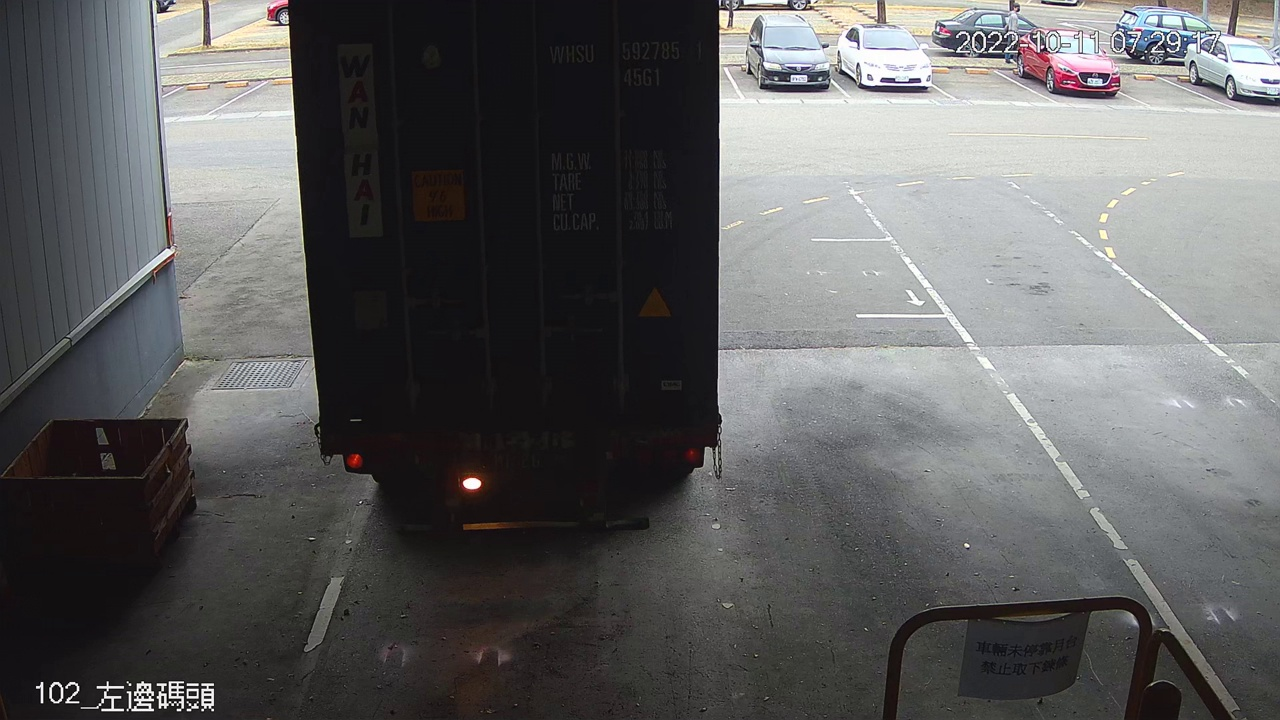container: (543, 32, 708, 94)
